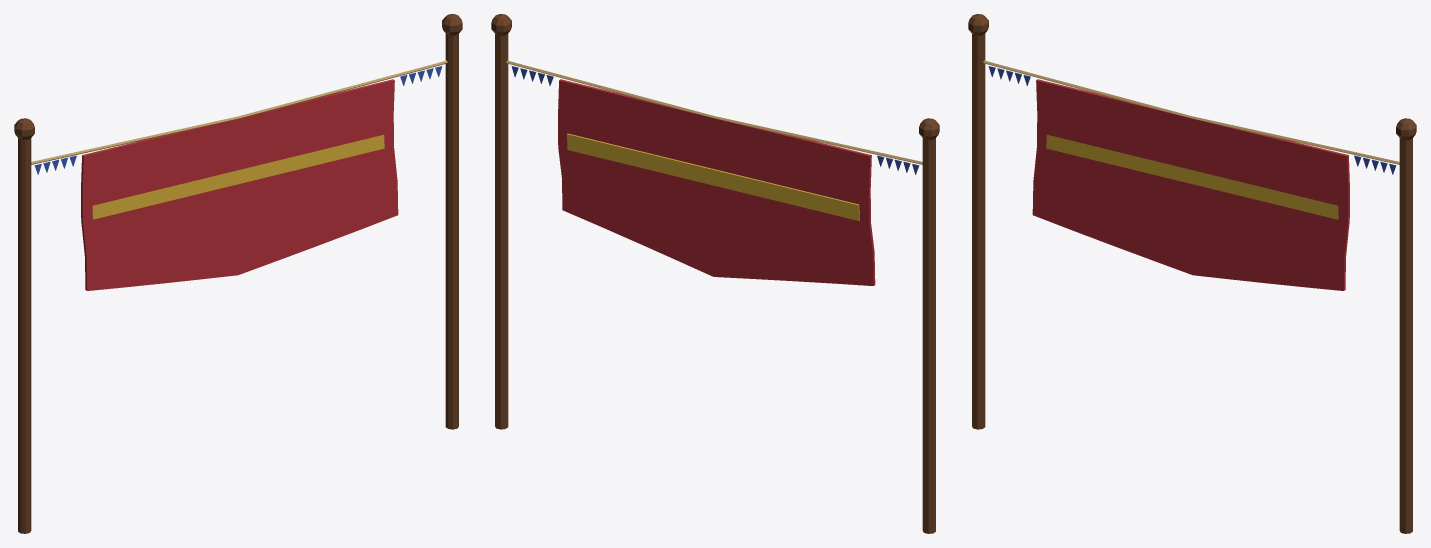
File: pixor-library-banner-street.glb
3 renders of one model, left to right at view 1: azimuth 30°, elevation 25°; view 2: azimuth 150°, elevation 25°; view 3: azimuth 330°, elevation 25°, orthographic.
Parts seen in each view (by area): view 1: Banner cloth, Banner poles, Banner stripe, Banner rope; view 2: Banner cloth, Banner poles, Banner stripe, Banner rope; view 3: Banner cloth, Banner poles, Banner stripe, Banner rope.
Part boxes in pixels (x1,y1,x2,y2): Banner cloth: (81, 79, 398, 290); Banner poles: (14, 14, 462, 533); Banner stripe: (92, 134, 384, 219); Banner rope: (31, 60, 447, 164); Banner cloth: (558, 79, 875, 285); Banner poles: (491, 14, 939, 533); Banner stripe: (567, 133, 859, 220); Banner rope: (506, 60, 922, 164); Banner cloth: (1032, 79, 1349, 290); Banner poles: (968, 14, 1416, 533); Banner stripe: (1046, 134, 1338, 219); Banner rope: (983, 60, 1399, 164).
Size of the model in its own units: 4.59 by 4.05 by 0.1902.
